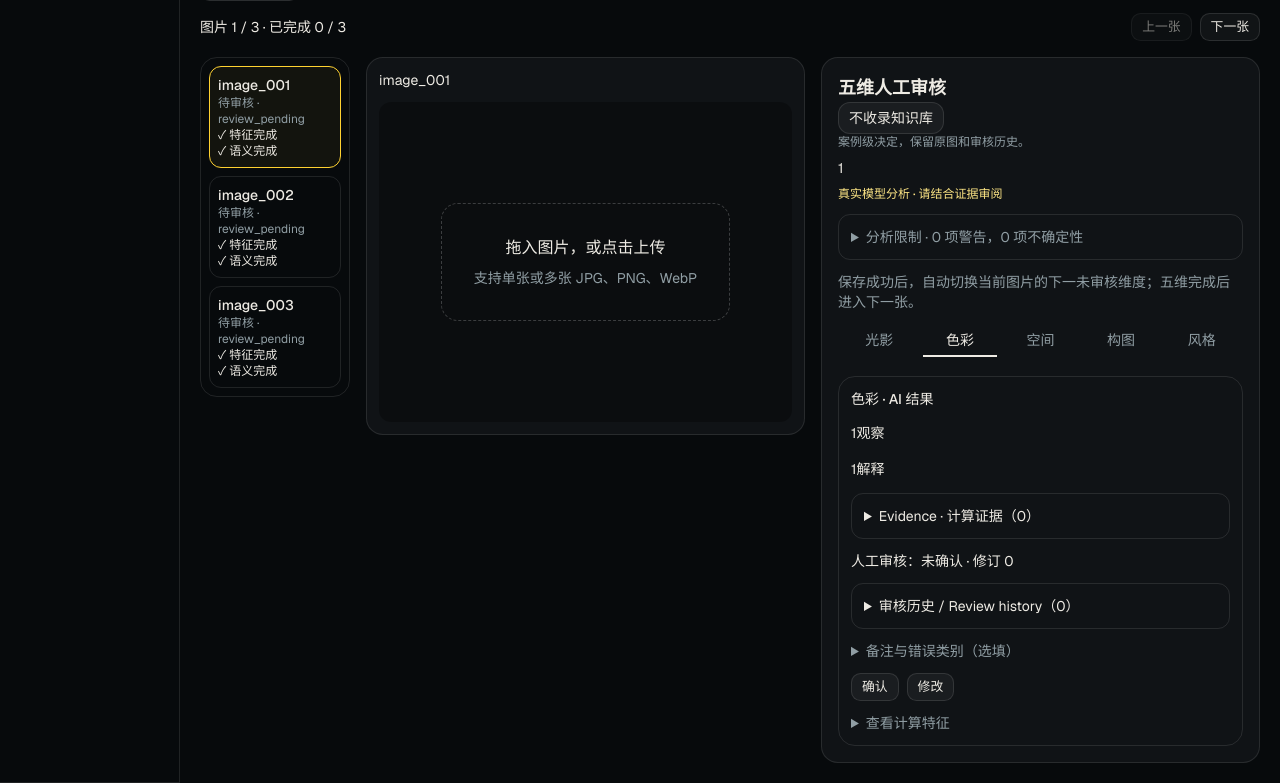
Test: keeps selection and completion unchanged on save failure
(page scrolled)
Click the button "确认": (875, 687) [851,673,899,701]
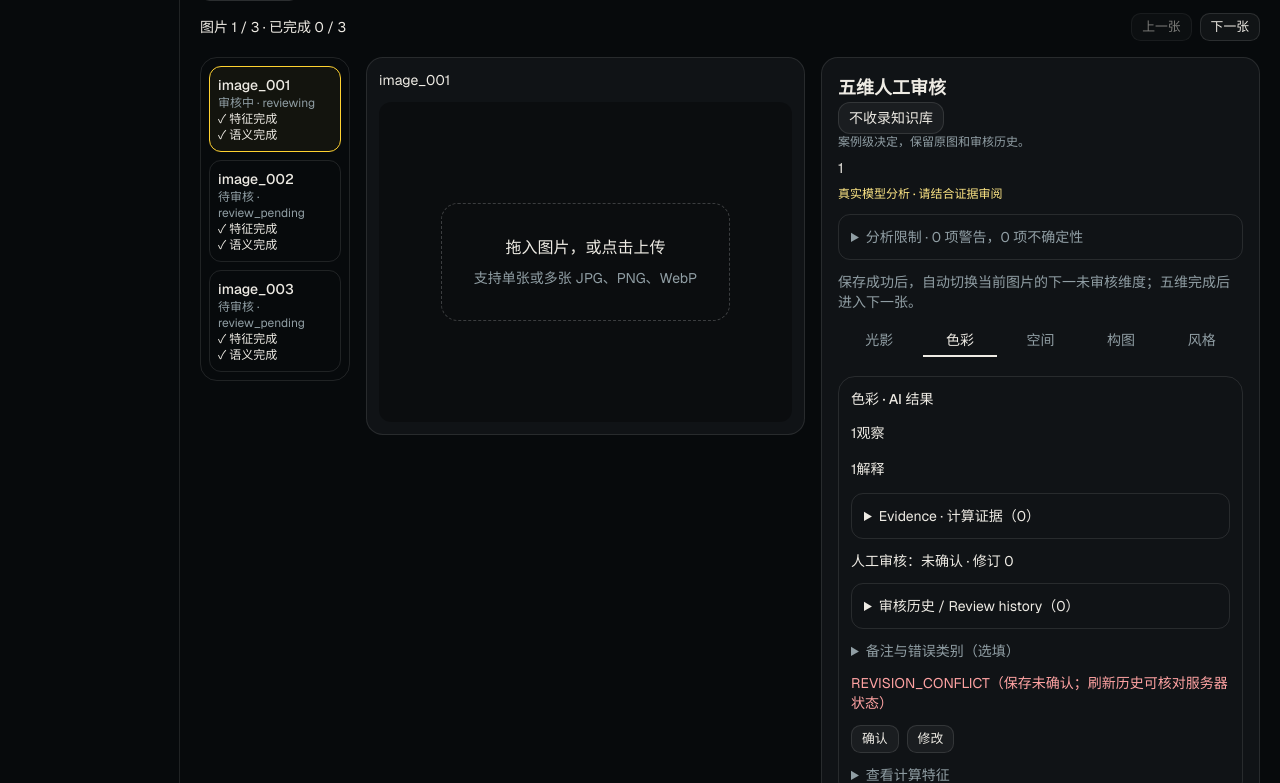
Result: the message "REVISION_CONFLICT（保存未确认；刷新历史可核对服务器状态）" is shown at [851,673,1230,713]
